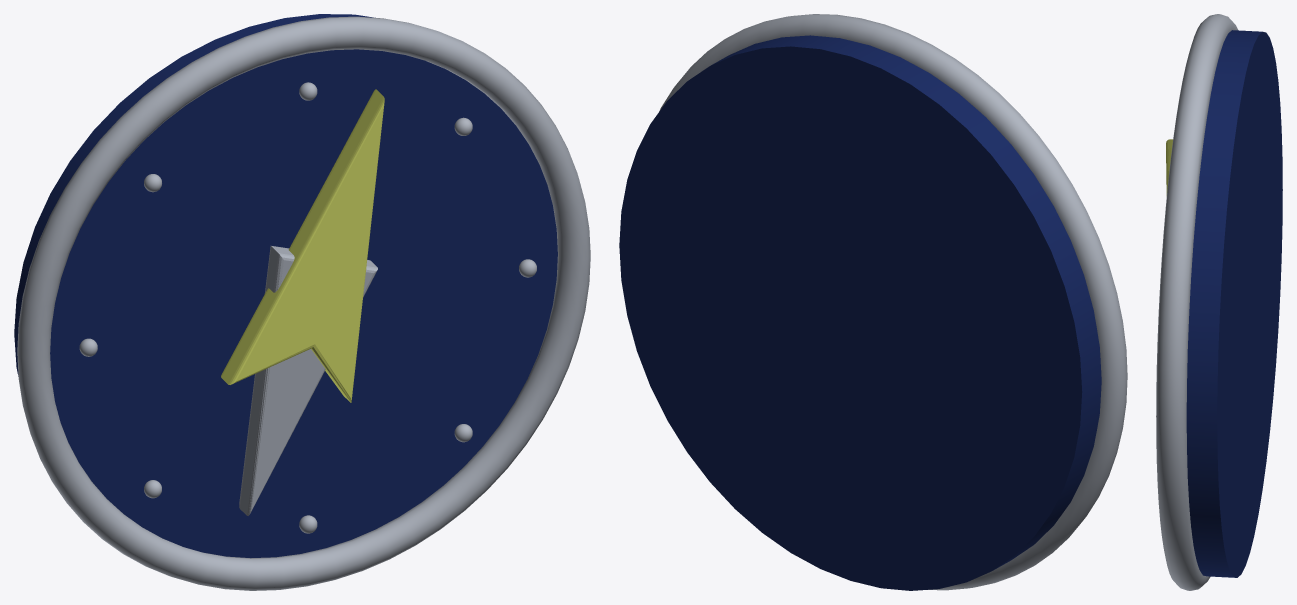
3 views of the same model, side by side, from view 1: azimuth 30°, elevation 25°; view 2: azimuth 150°, elevation 25°; view 3: azimuth 270°, elevation 25° (orthographic). The views are drawn at different scales.
Parts seen in each view (by area): view 1: metal barrel, rounded metal arc, north direction needle, counterweighted needle; view 2: metal barrel, rounded metal arc; view 3: metal barrel, rounded metal arc, north direction needle.
Boxes of the visible parts, x1,y1,x2,y2 form: metal barrel: [14, 14, 557, 558]; rounded metal arc: [17, 16, 590, 590]; north direction needle: [221, 89, 384, 402]; counterweighted needle: [239, 246, 377, 515]; metal barrel: [619, 35, 1101, 590]; rounded metal arc: [659, 14, 1127, 590]; metal barrel: [1186, 30, 1282, 577]; rounded metal arc: [1156, 14, 1237, 590]; north direction needle: [1166, 139, 1172, 195].
Bounding box in the file's own units: 1.68 × 1.69 × 0.3702.
